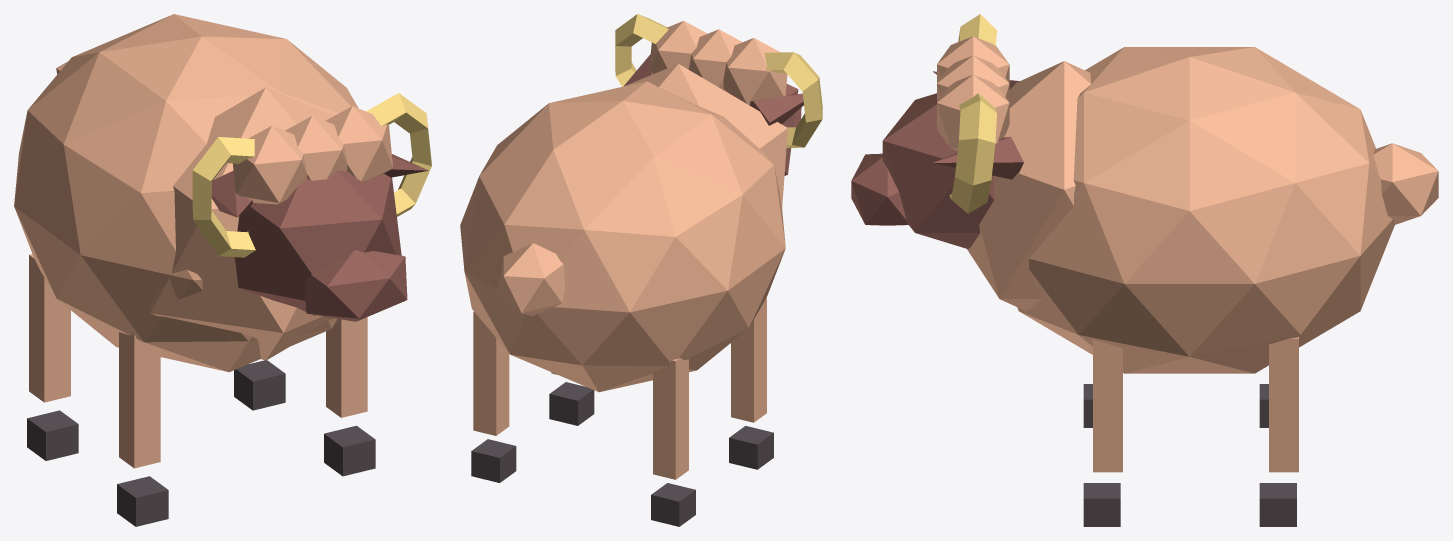
Rendered from ember-ram.glb.
3 views of the same model, side by side, from view 1: azimuth 30°, elevation 25°; view 2: azimuth 150°, elevation 25°; view 3: azimuth 270°, elevation 25° (orthographic). The views are drawn at different scales.
Visible parts, largest first — view 1: wool_body, wool_chest, face, muzzle, leg, leg.002, crown_wool_0, leg.001, horn_-1, crown_wool_2, horn_1, crown_wool_1 (+6 smaller); view 2: wool_body, wool_chest, leg.002, tail, leg.003, leg, crown_wool_0, horn_-1, crown_wool_2, crown_wool_1, horn_1, hoof.003 (+4 smaller); view 3: wool_body, wool_chest, face, horn_1, leg.003, leg.001, tail, muzzle, crown_wool_2, hoof.001, hoof.003, crown_wool_0 (+3 smaller).
Boxes of the visible parts, x1,y1,x2,y2 form: wool_body: [14, 14, 358, 372]; wool_chest: [150, 87, 333, 360]; face: [234, 170, 401, 315]; muzzle: [304, 250, 407, 321]; leg: [119, 332, 160, 468]; leg.002: [29, 254, 70, 402]; crown_wool_0: [232, 126, 306, 204]; leg.001: [326, 317, 367, 417]; horn_-1: [192, 137, 255, 257]; crown_wool_2: [325, 106, 392, 181]; horn_1: [366, 93, 431, 216]; crown_wool_1: [285, 116, 347, 180]; wool_body: [460, 81, 785, 392]; wool_chest: [624, 64, 787, 208]; leg.002: [653, 358, 688, 479]; tail: [496, 243, 564, 316]; leg.003: [473, 311, 509, 435]; leg: [731, 296, 766, 422]; crown_wool_0: [723, 38, 787, 105]; horn_-1: [764, 52, 822, 147]; crown_wool_2: [649, 21, 707, 73]; crown_wool_1: [688, 29, 742, 89]; horn_1: [615, 14, 668, 86]; hoof.003: [471, 439, 516, 482]; wool_body: [1017, 47, 1395, 373]; wool_chest: [967, 61, 1090, 310]; face: [882, 93, 994, 248]; horn_1: [949, 93, 996, 213]; leg.003: [1269, 337, 1298, 472]; leg.001: [1093, 339, 1122, 472]; tail: [1373, 143, 1438, 224]; muzzle: [851, 153, 908, 225]; crown_wool_2: [937, 74, 1009, 150]; hoof.001: [1083, 483, 1120, 526]; hoof.003: [1259, 483, 1296, 526]; crown_wool_0: [937, 36, 1009, 83].
Bounding box in the file's own units: 1.22 × 1.61 × 2.06.
